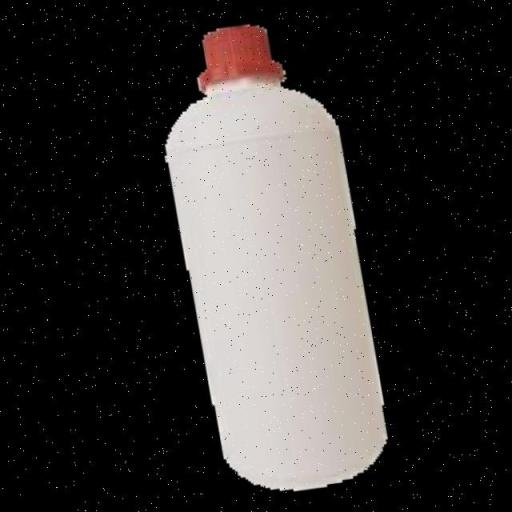plastic: (138, 2, 404, 508)
